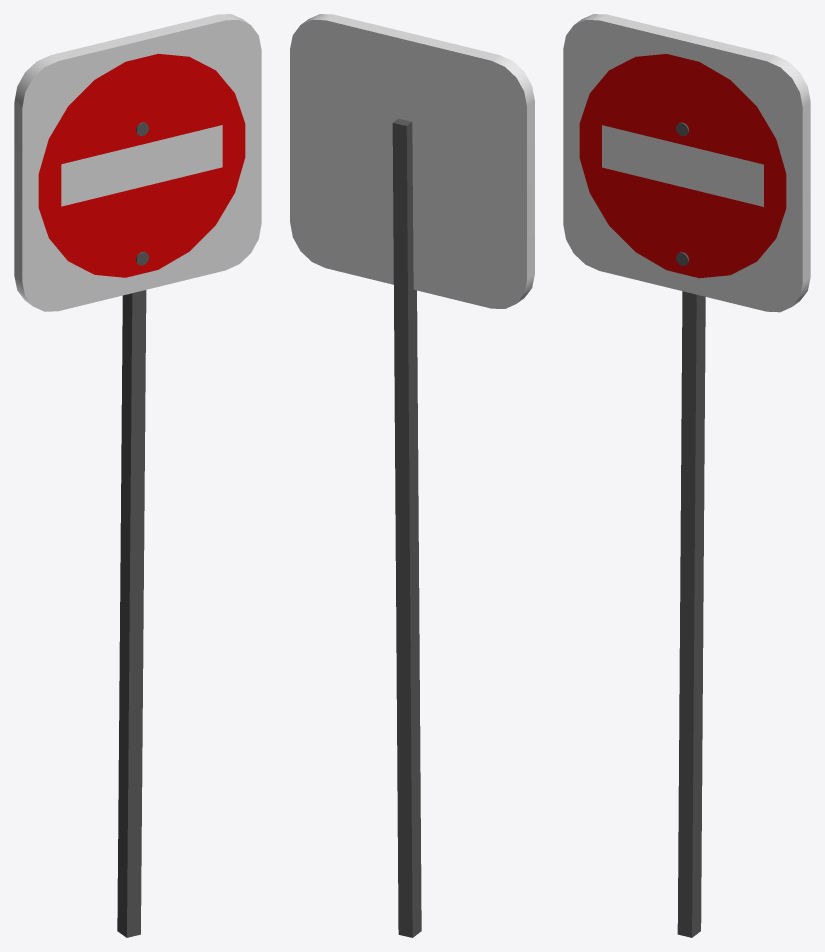
File: Stopsign.fbx
3 views of the same model, side by side, from view 1: azimuth 30°, elevation 25°; view 2: azimuth 150°, elevation 25°; view 3: azimuth 330°, elevation 25° (orthographic).
Parts seen in each view (by area): view 1: sign, pole; view 2: sign, pole; view 3: sign, pole.
Part boxes in pixels (x1,y1,x2,y2): sign: [14, 14, 261, 311]; pole: [117, 290, 146, 937]; sign: [290, 14, 534, 308]; pole: [392, 118, 421, 937]; sign: [563, 14, 810, 312]; pole: [677, 291, 705, 937].
Size of the model in its own units: 106 by 381 by 11.77.
